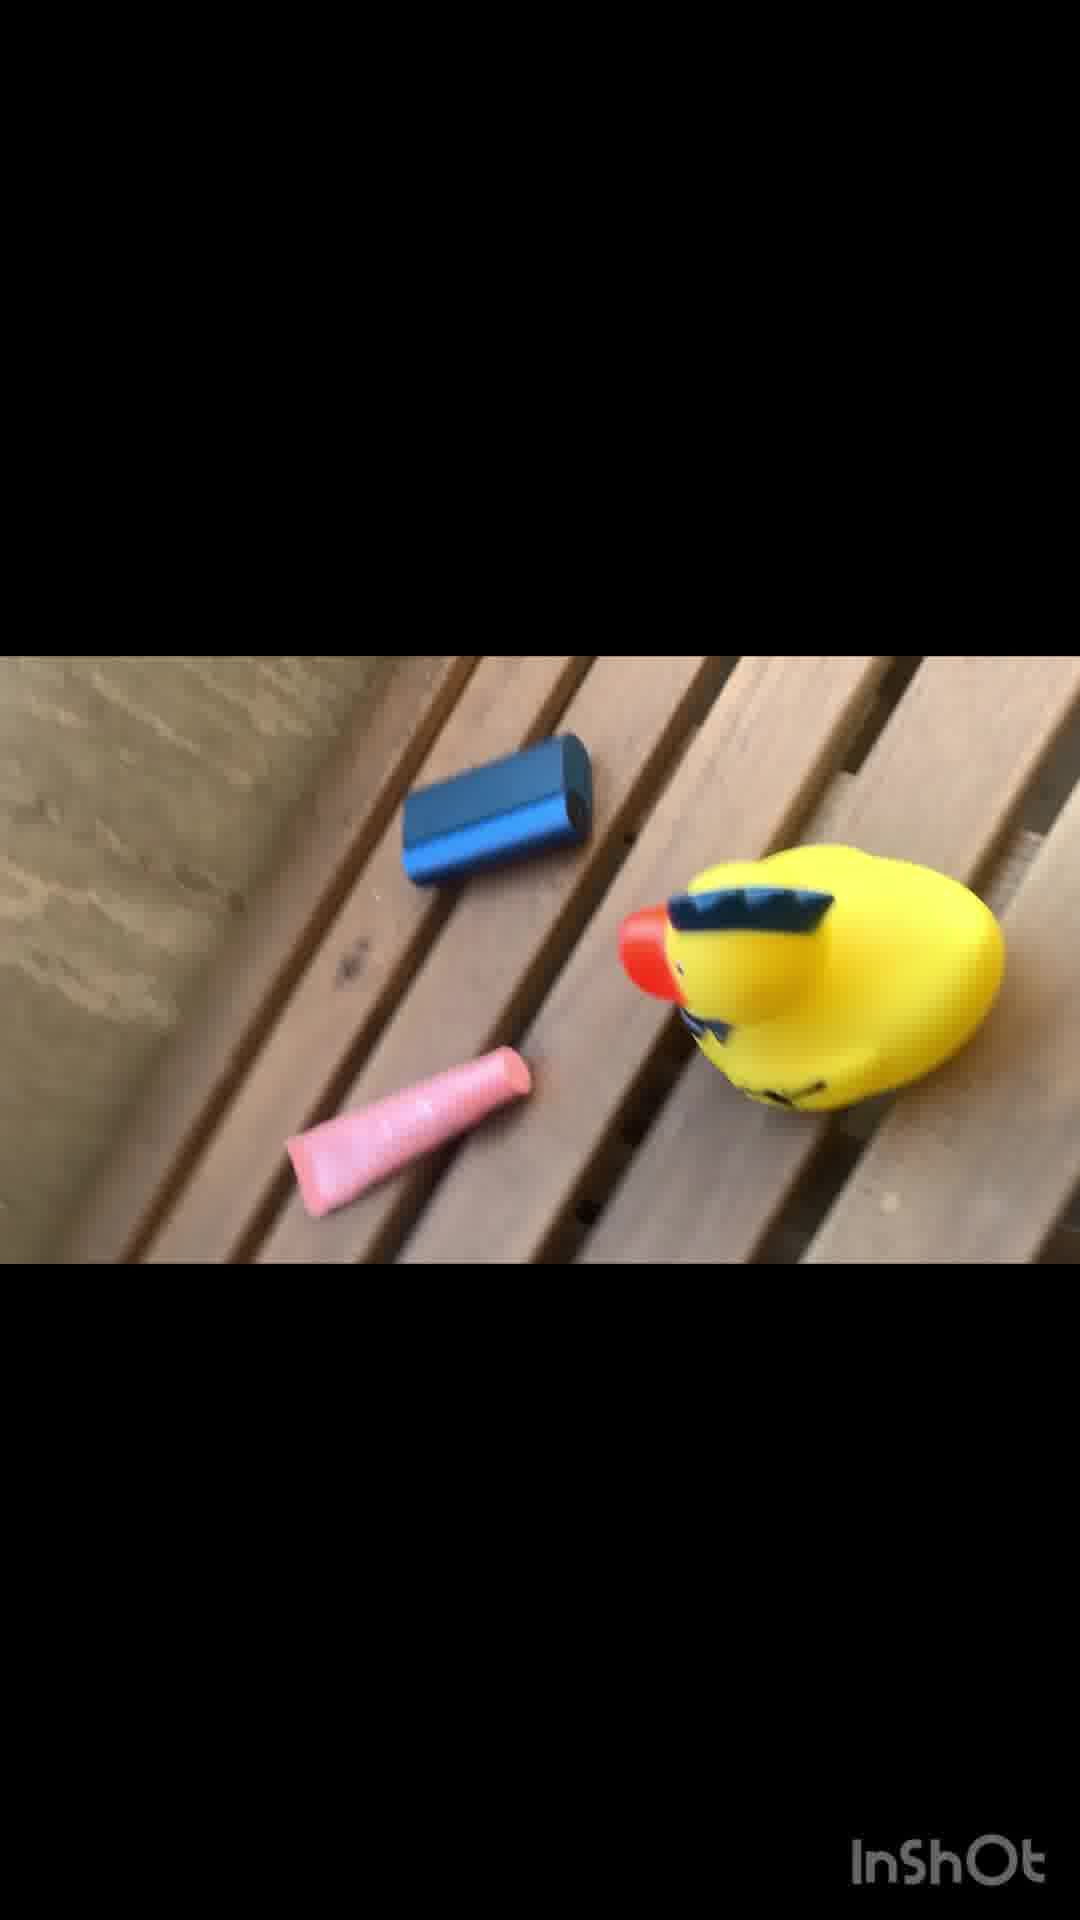duck: (611, 836, 1018, 1098)
glo: (398, 723, 611, 877)
lip balm: (290, 1040, 545, 1203)
